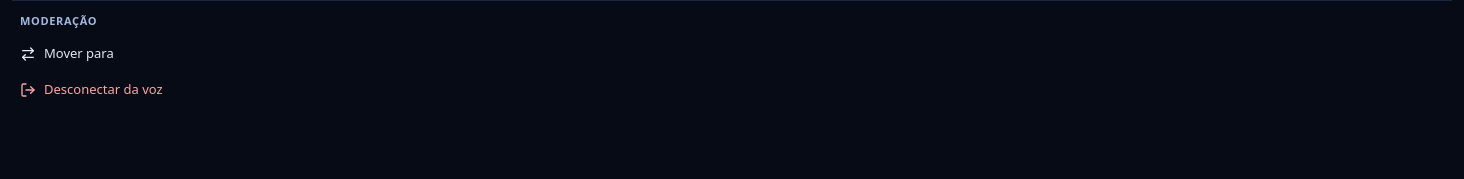
Scenario: mover e desconectar pelo cartão › Mover para não oferece a sala restrita de que a pessoa está fora
Click the button "Mover para": [79, 53] box [12,38,1452,70]
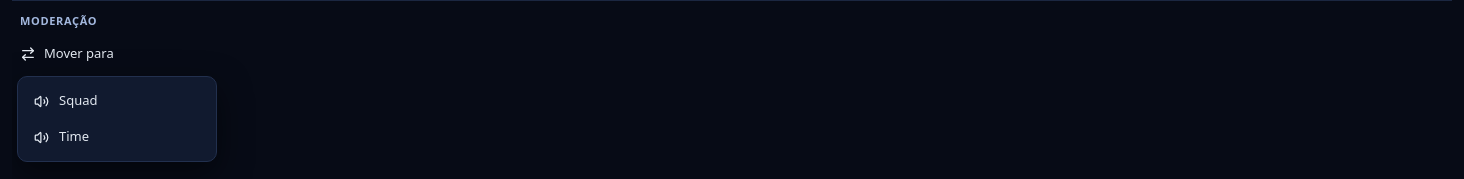
Expected: the menu named "Mover para" does not show "VIP", [17,76,217,162]
Expected: the menu named "Mover para" shows "Squad", [59,91,98,109]
Expected: the menu named "Mover para" shows "Time", [59,127,89,145]
